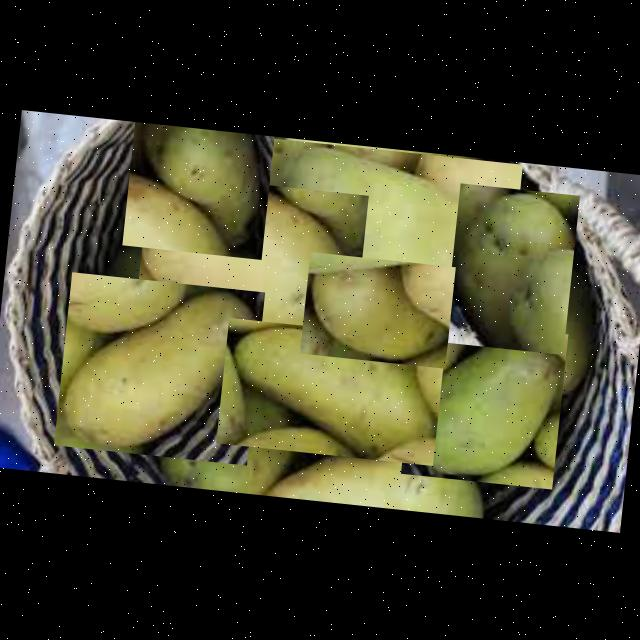Defected potato: (132, 172, 368, 360), (254, 136, 522, 296), (52, 271, 264, 464), (215, 316, 444, 464), (400, 317, 567, 488), (442, 182, 578, 354), (120, 120, 274, 258), (253, 436, 495, 518), (298, 250, 454, 368), (509, 248, 618, 407)
